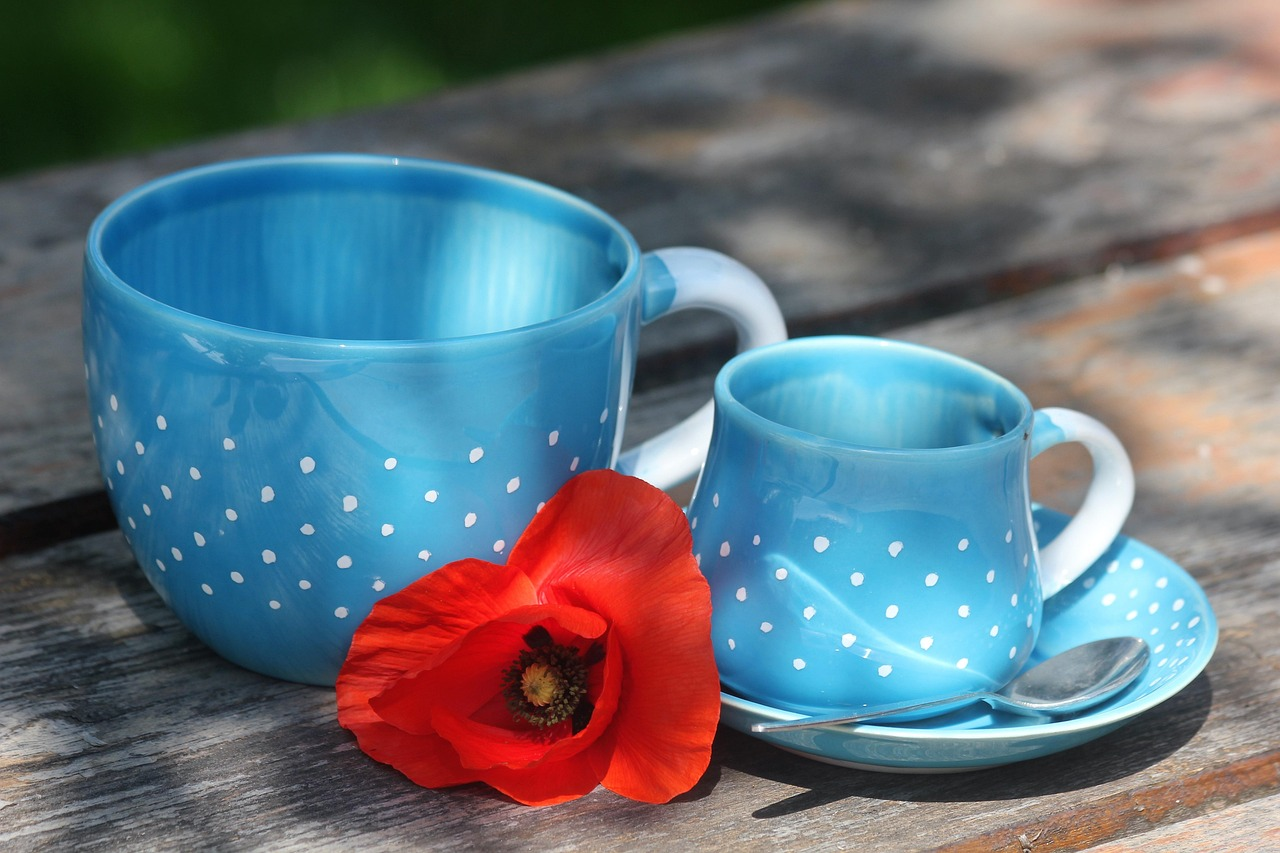mug: (45, 112, 822, 700), (634, 324, 1217, 755)
